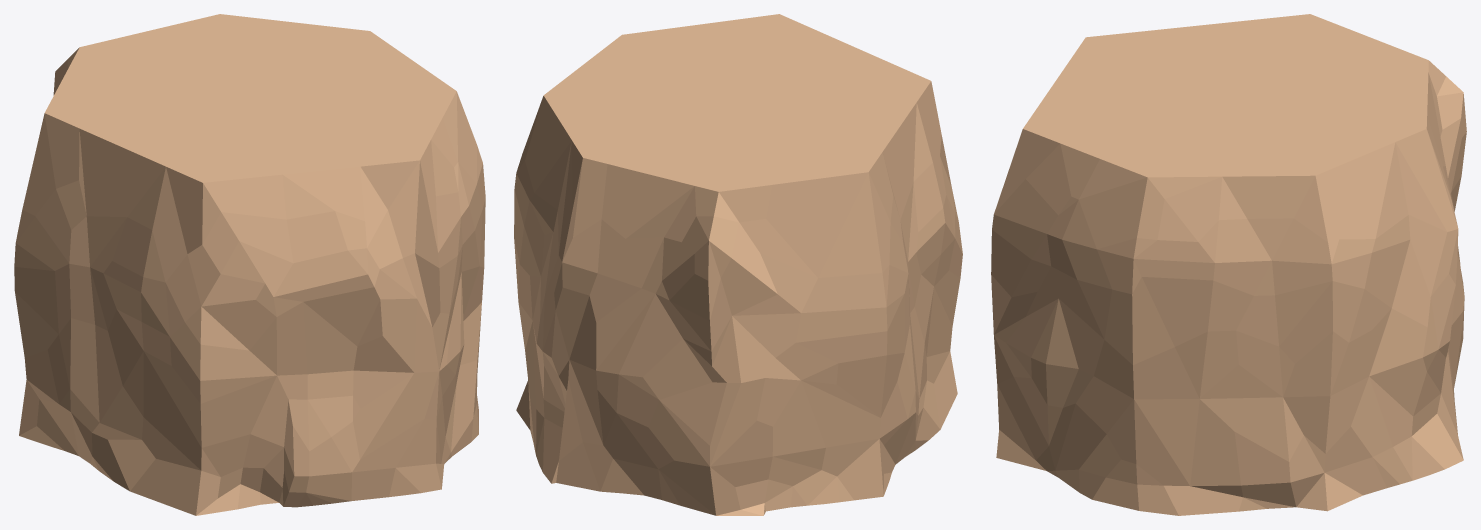
Rendered from rockwall.fbx.
The picture shows the model from 3 angles, left to right: view 1: azimuth 30°, elevation 25°; view 2: azimuth 150°, elevation 25°; view 3: azimuth 270°, elevation 25°; orthographic projection. The views are drawn at different scales.
Parts seen in each view (by area): view 1: polySurface3; view 2: polySurface3; view 3: polySurface3.
Part boxes in pixels (x1,y1,x2,y2): polySurface3: (14, 14, 485, 515); polySurface3: (514, 14, 962, 515); polySurface3: (991, 14, 1466, 515).
Size of the model in its own units: 6.2 by 4.96 by 6.58.
